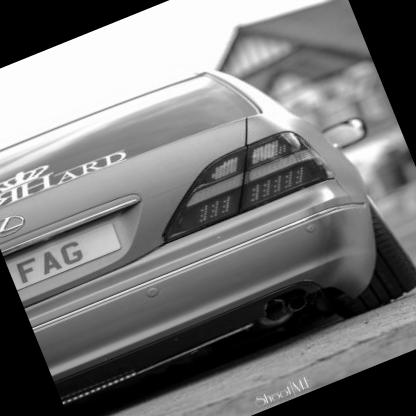car: (1, 4, 416, 416)
